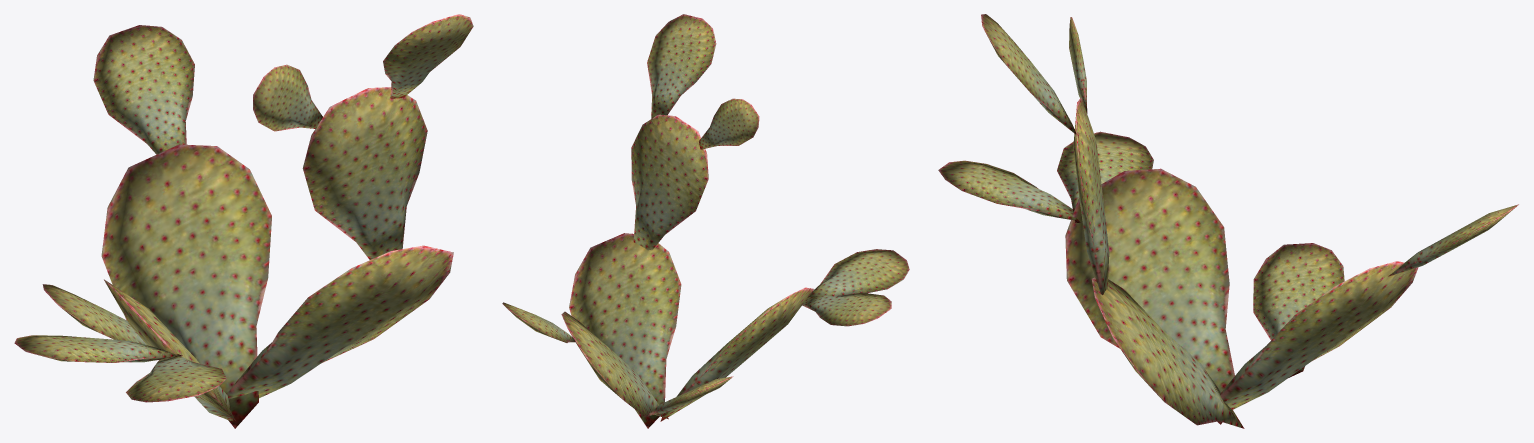
Rendered from cactus_03.FBX.
The picture shows the model from 3 angles, left to right: view 1: azimuth 30°, elevation 25°; view 2: azimuth 150°, elevation 25°; view 3: azimuth 270°, elevation 25°; orthographic projection. The views are drawn at different scales.
Parts seen in each view (by area): view 1: cactus_03; view 2: cactus_03; view 3: cactus_03.
Part boxes in pixels (x1,y1,x2,y2): cactus_03: [14, 14, 473, 428]; cactus_03: [502, 14, 909, 428]; cactus_03: [938, 14, 1518, 428].
Bounding box in the file's own units: 29.14 × 30.2 × 35.91.
Materials: 1 (1 with a texture image).
